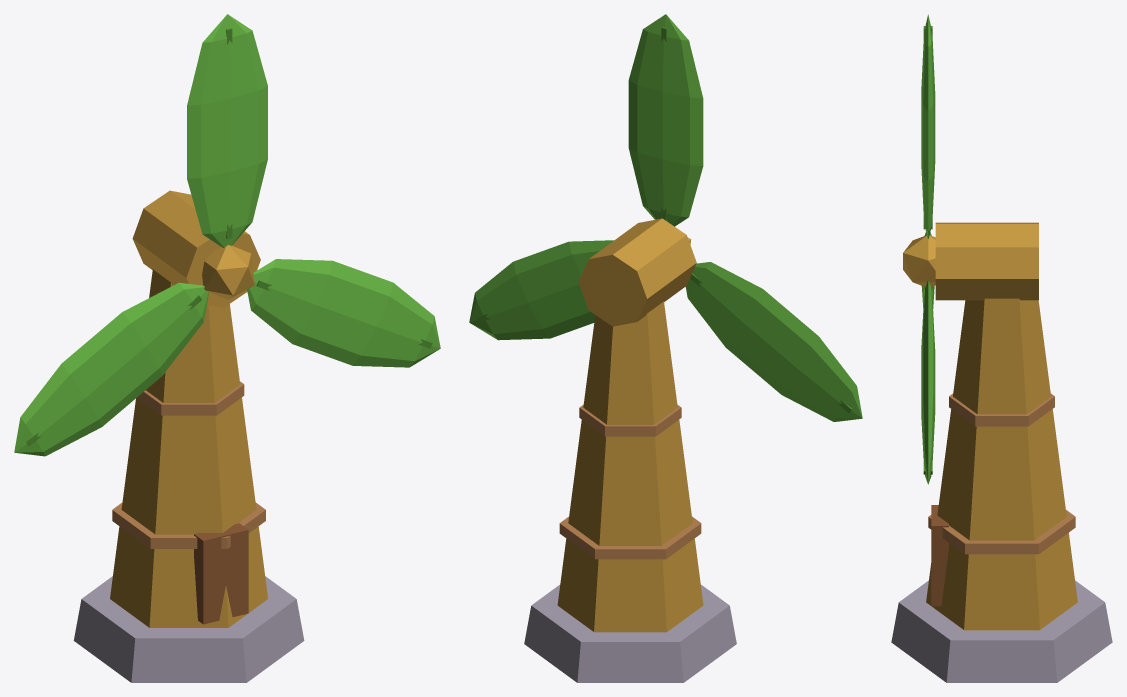
Rendered from windmill.glb.
The picture shows the model from 3 angles, left to right: view 1: azimuth 30°, elevation 25°; view 2: azimuth 150°, elevation 25°; view 3: azimuth 270°, elevation 25°; orthographic projection. The views are drawn at different scales.
Visible parts, largest first — view 1: windmill, Blades; view 2: windmill, Blades; view 3: windmill, Blades.
Boxes of the visible parts, x1,y1,x2,y2 form: windmill: (73, 190, 304, 682); Blades: (14, 14, 440, 456); windmill: (524, 218, 736, 682); Blades: (469, 14, 862, 421); windmill: (891, 222, 1112, 682); Blades: (903, 14, 935, 484).
Bounding box in the file's own units: 3.2 × 4.7 × 1.5.
